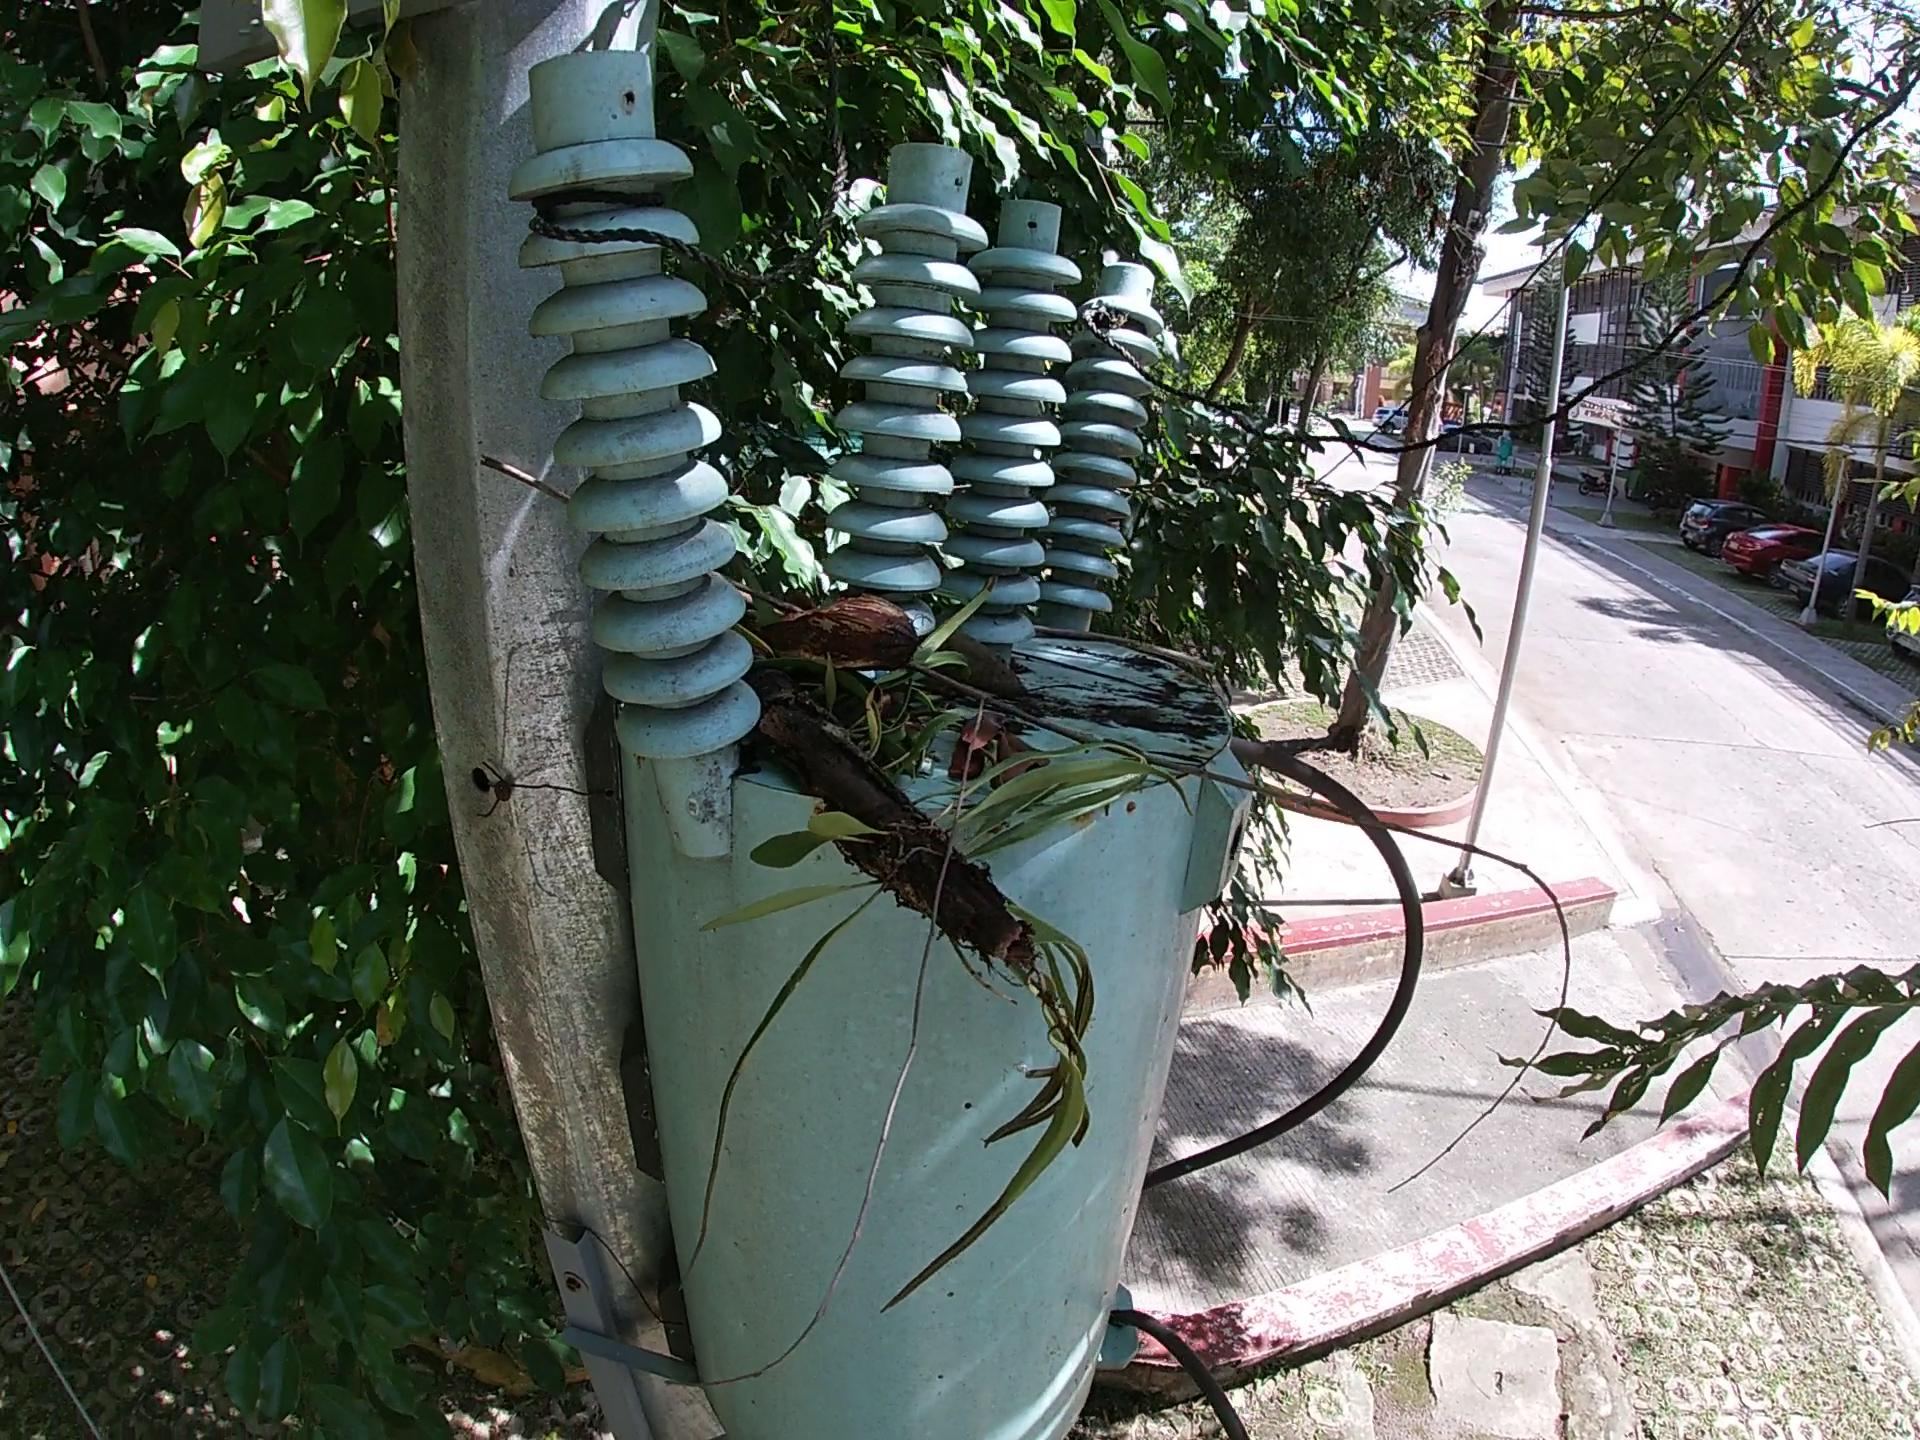branch with leaves: (714, 607, 1132, 1165)
mahogany fruit: (714, 607, 853, 734)
tree branch: (454, 519, 1590, 915), (996, 593, 1268, 753), (854, 613, 1098, 734)
